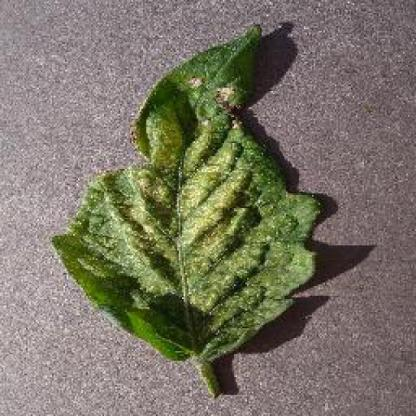Tomato_Spider_Mites: (53, 23, 317, 360)
